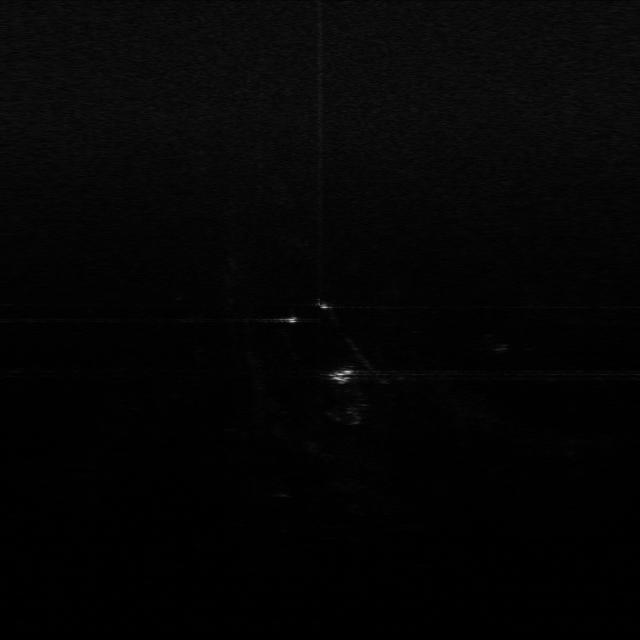rov: (326, 364, 356, 388)
